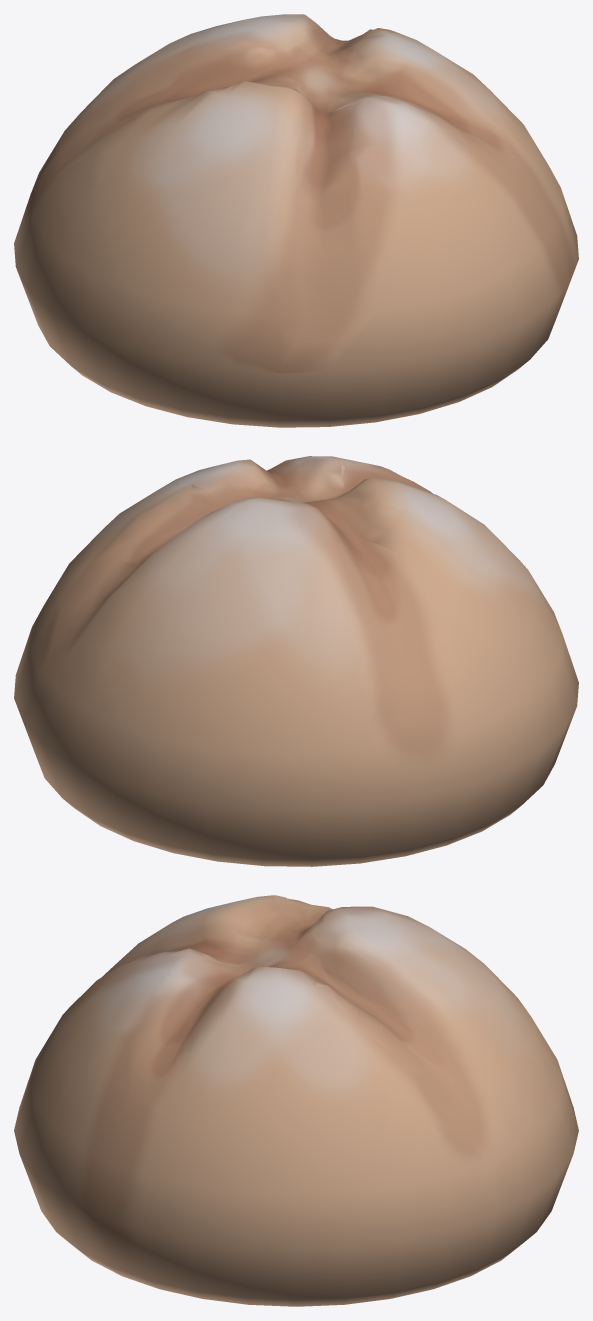
The model's file is hogaza.fbx.
The picture shows the model from 3 angles, top to bottom: view 1: azimuth 30°, elevation 25°; view 2: azimuth 150°, elevation 25°; view 3: azimuth 270°, elevation 25°; orthographic projection.
Parts seen in each view (by area): view 1: Hogaza; view 2: Hogaza; view 3: Hogaza.
Boxes of the visible parts, x1,y1,x2,y2 form: Hogaza: (14, 14, 578, 427); Hogaza: (14, 456, 578, 866); Hogaza: (14, 895, 578, 1306).
Bounding box in the file's own units: 125 × 69.08 × 125.
Materials: 1 (1 with a texture image).
